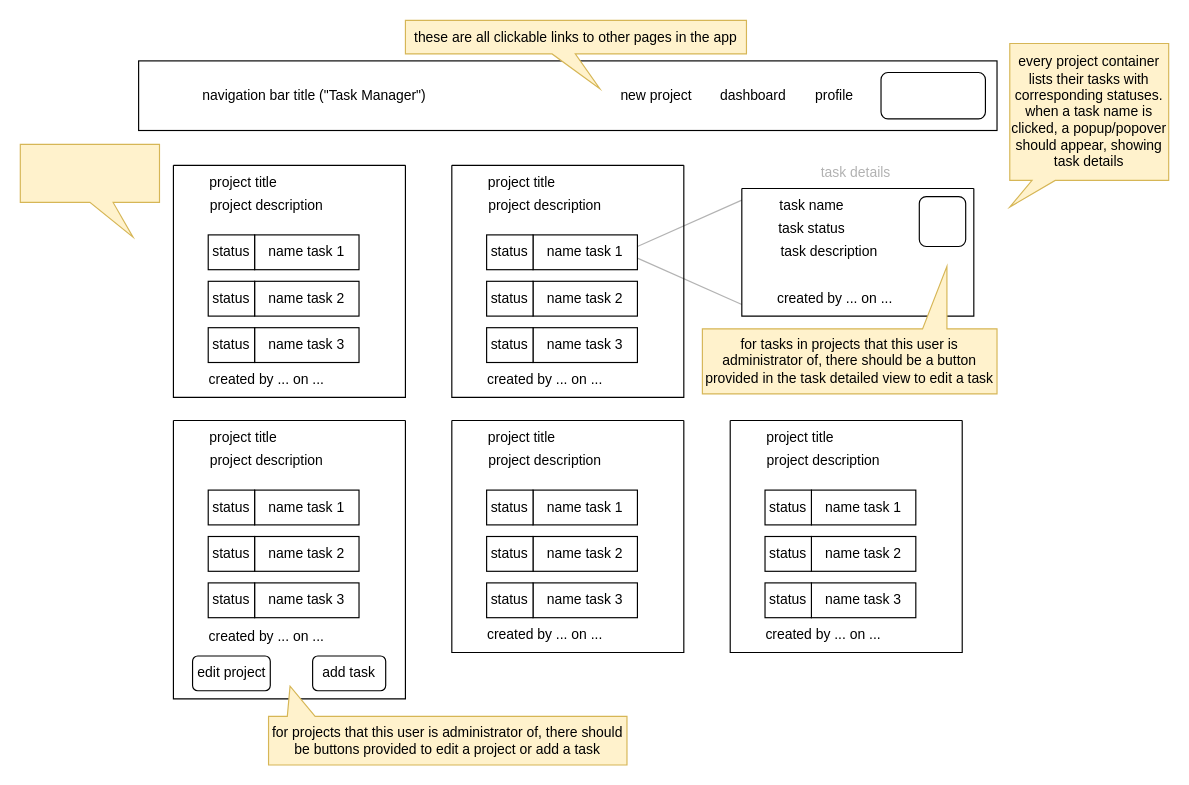
Some shapes in this 1189 by 785 pixel diagram are drawn without their labels. Here are the shapes that lost their labels. From the top down, the centre of each, then its label:
At pixel 932 95: "log out button".
At pixel 89 190: "maybe we should switch task name and status in project card".
At pixel 942 220: "edit task".
